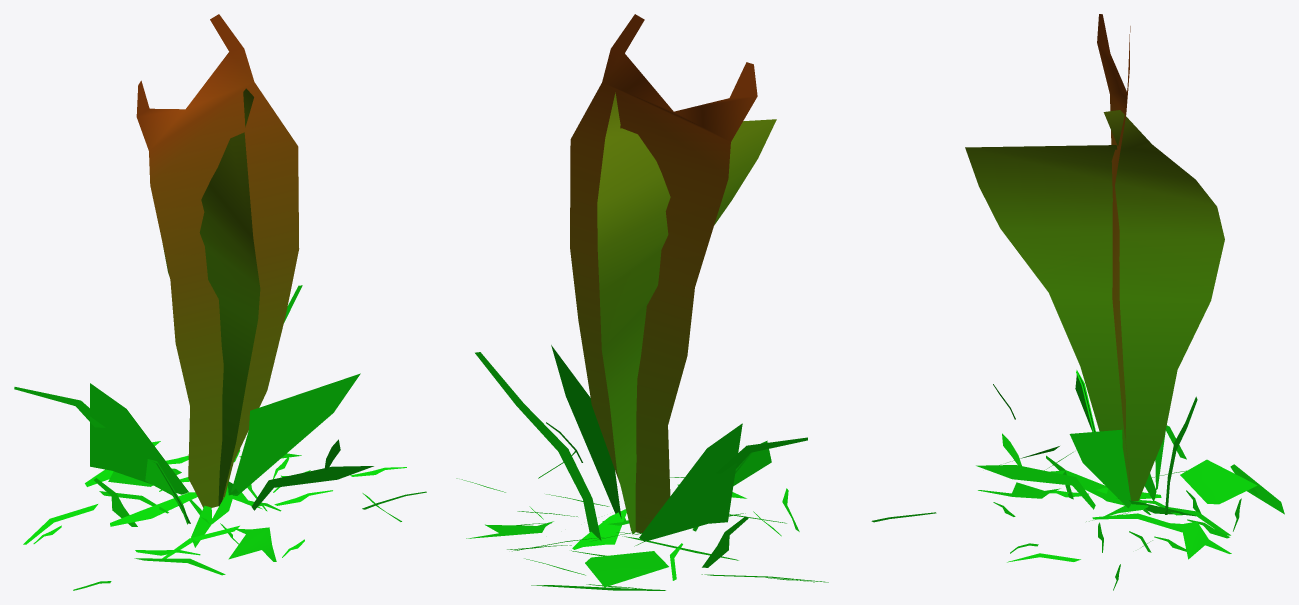
File: Dead Shrubs_LOD1_Var8_vdknafgha.fbx
3 views of the same model, side by side, from view 1: azimuth 30°, elevation 25°; view 2: azimuth 150°, elevation 25°; view 3: azimuth 270°, elevation 25° (orthographic). The views are drawn at different scales.
Visible parts, largest first — view 1: _vwxu_Var8_LOD1; view 2: _vwxu_Var8_LOD1; view 3: _vwxu_Var8_LOD1.
Boxes of the visible parts, <box> form: _vwxu_Var8_LOD1: <box>14,14,426,590</box>; _vwxu_Var8_LOD1: <box>456,14,936,590</box>; _vwxu_Var8_LOD1: <box>965,14,1284,590</box>.
Bounding box in the file's own units: 28.1 × 34.07 × 20.13.
